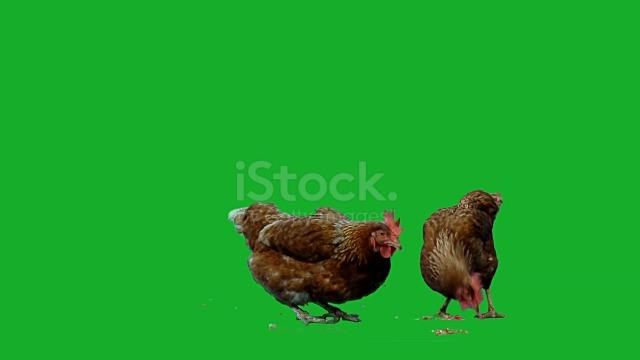Normal: (231, 196, 407, 327), (420, 194, 516, 324)
